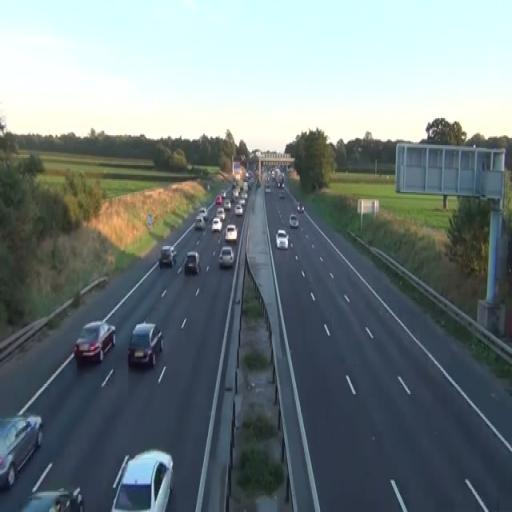Car: (110, 448, 174, 512), (0, 412, 43, 490), (73, 319, 116, 365), (128, 322, 164, 368), (18, 487, 85, 511), (184, 251, 200, 275), (218, 246, 234, 269), (276, 228, 289, 250), (224, 224, 238, 242), (289, 215, 299, 229)
